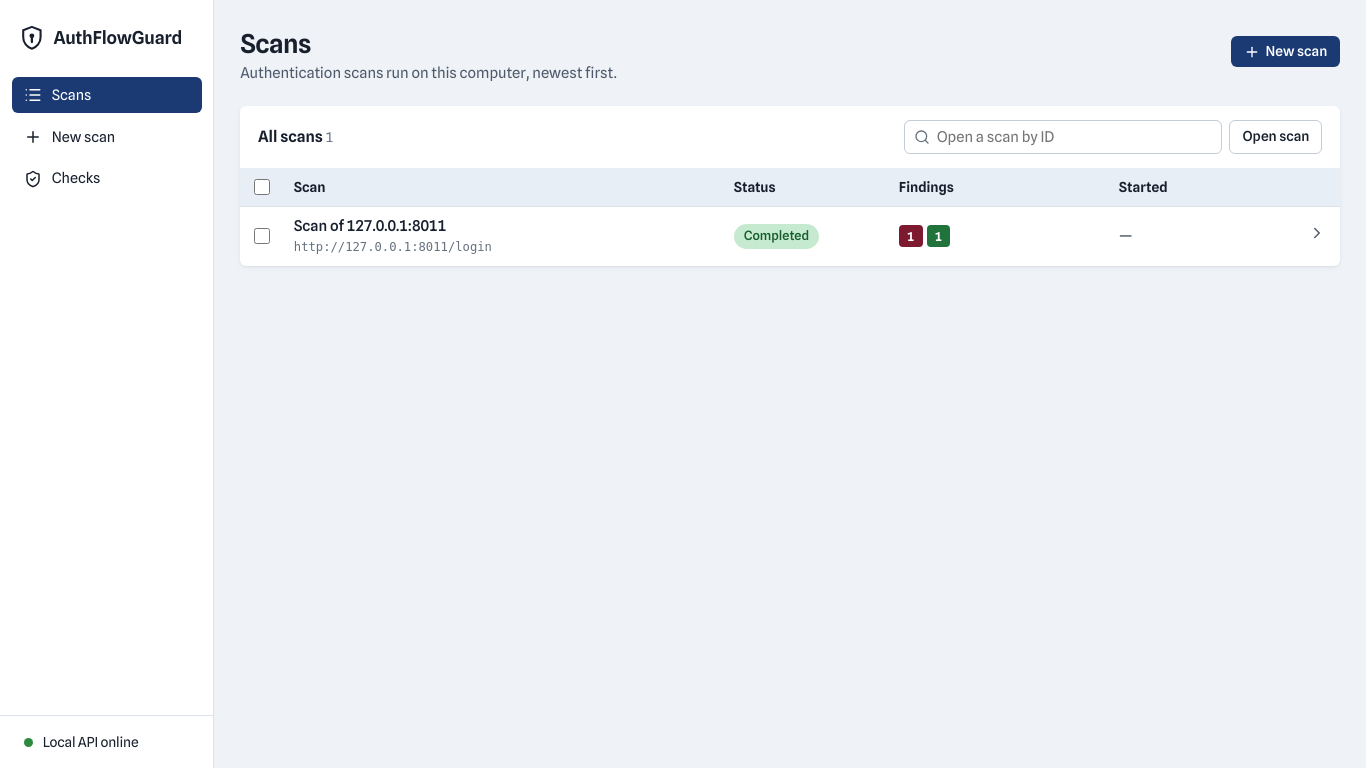
setup workflow › lists saved scans with severity counts and opens one
This screenshot has width=1366, height=768.
Expected: the text "Completed" is shown, [734,224,819,249]
Expected: the 1st element titled "1 Critical" is shown, [899,226,923,247]
Click the button "Scan of 127.0.0.1:8011": (370, 227) [294,216,446,237]
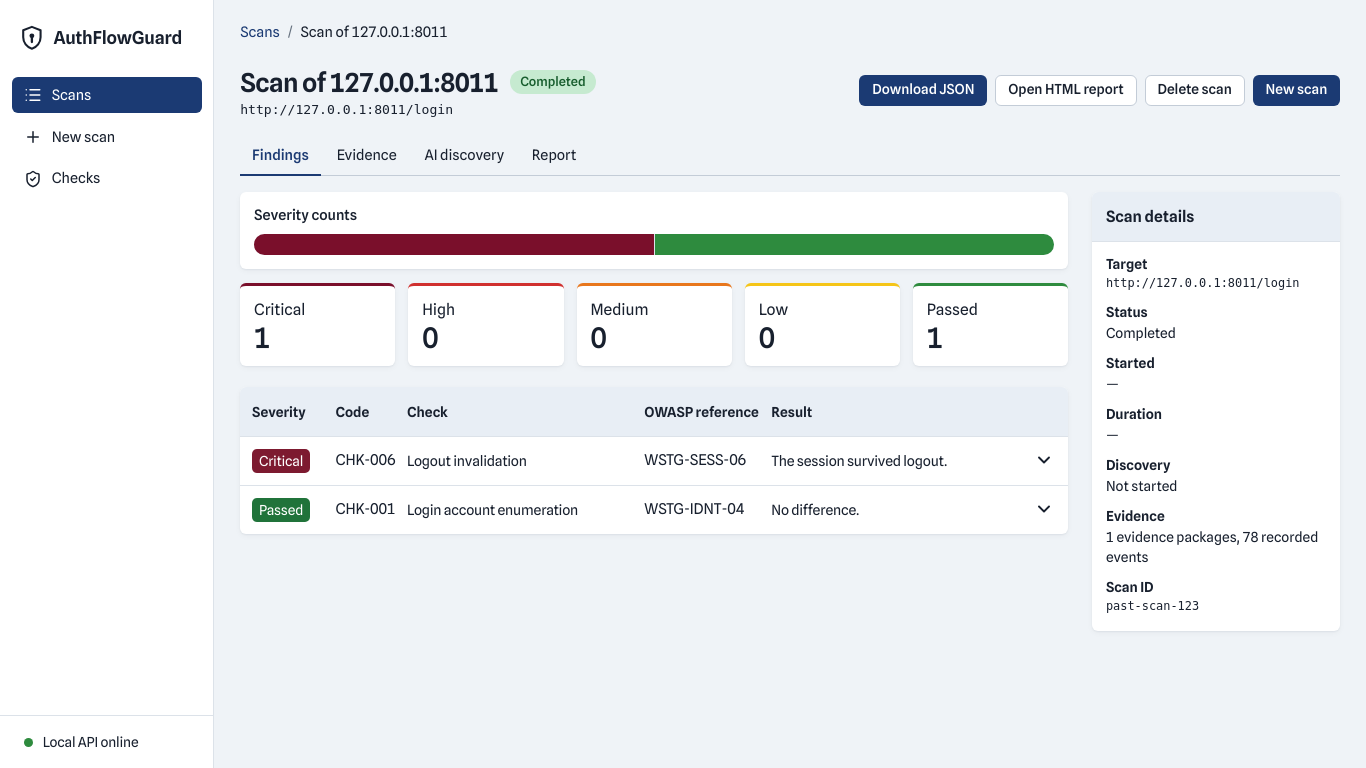
Expected: the heading "Scan of 127.0.0.1:8011" is shown, [240,67,498,98]
